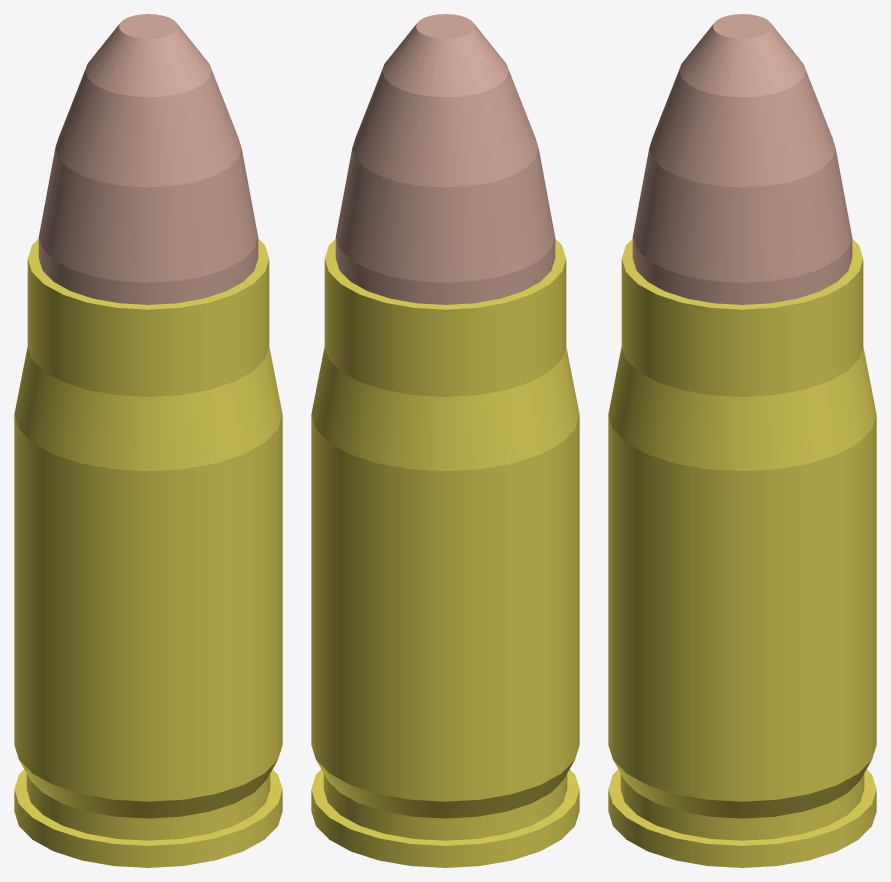
File: ammo_sniper.glb
3 views of the same model, side by side, from view 1: azimuth 30°, elevation 25°; view 2: azimuth 150°, elevation 25°; view 3: azimuth 270°, elevation 25° (orthographic).
Visible parts, largest first — view 1: Mesh1 Group2 Group1 Model, Mesh2 Group3 Group1 Model; view 2: Mesh1 Group2 Group1 Model, Mesh2 Group3 Group1 Model; view 3: Mesh1 Group2 Group1 Model, Mesh2 Group3 Group1 Model.
Part boxes in pixels (x1,y1,x2,y2): Mesh1 Group2 Group1 Model: (14, 239, 282, 867); Mesh2 Group3 Group1 Model: (38, 14, 258, 304); Mesh1 Group2 Group1 Model: (311, 239, 579, 867); Mesh2 Group3 Group1 Model: (335, 14, 555, 304); Mesh1 Group2 Group1 Model: (608, 239, 876, 867); Mesh2 Group3 Group1 Model: (632, 14, 852, 304).
Bounding box in the file's own units: 0.0066 × 0.0213 × 0.0066.
